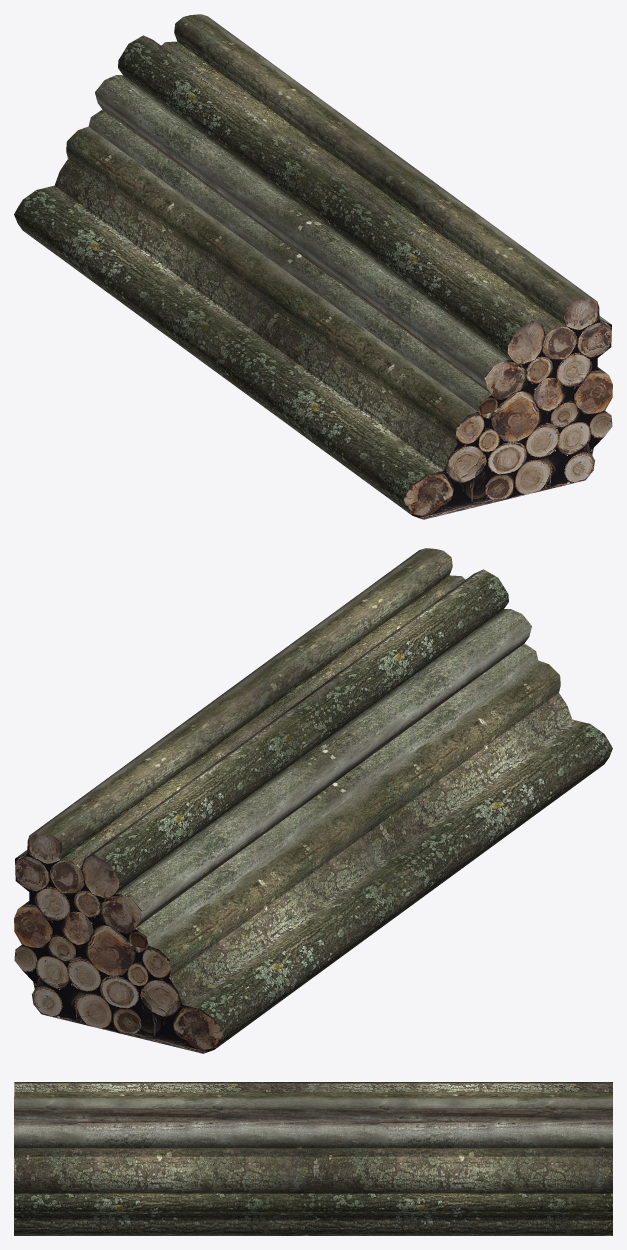
Rendered from WoodB.FBX.
The picture shows the model from 3 angles, top to bottom: view 1: azimuth 30°, elevation 25°; view 2: azimuth 150°, elevation 25°; view 3: azimuth 270°, elevation 25°; orthographic projection. The views are drawn at different scales.
Parts seen in each view (by area): view 1: WoodB; view 2: WoodB; view 3: WoodB.
Part boxes in pixels (bbox=[...]): WoodB: bbox=[14, 14, 612, 519]; WoodB: bbox=[14, 548, 612, 1053]; WoodB: bbox=[14, 1082, 612, 1235].
Size of the model in its own units: 164 by 528 by 135.
Materials: 2 (2 with a texture image).
